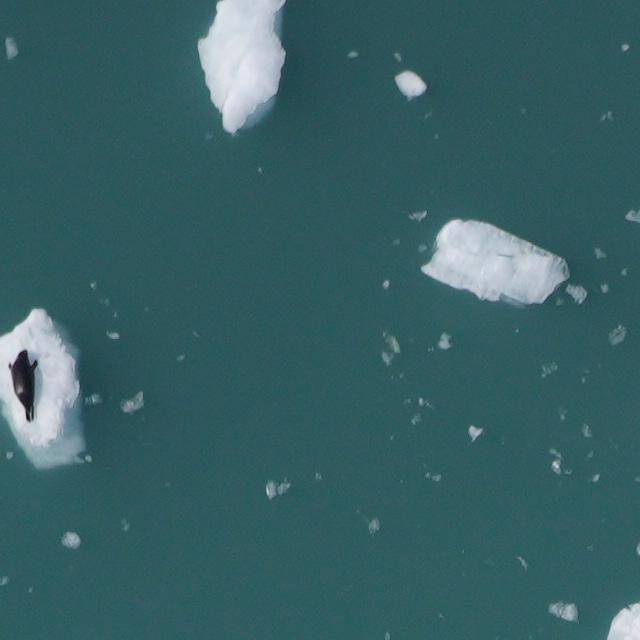seal: (8, 348, 36, 422)
